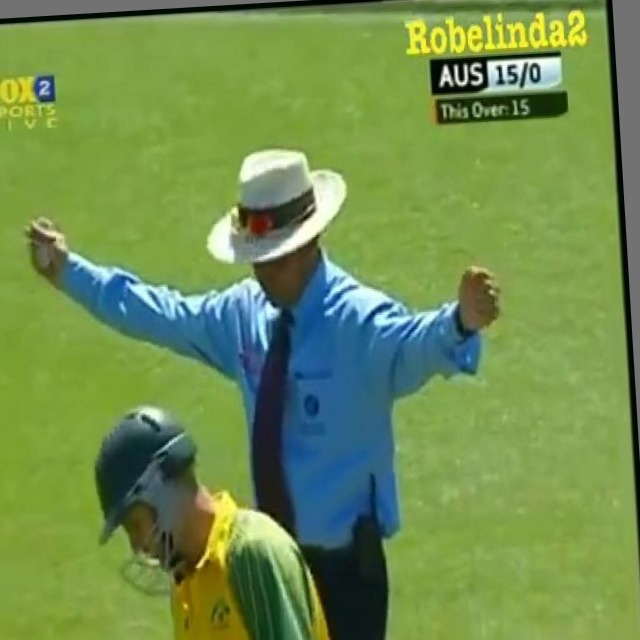Wide: (12, 128, 529, 467)
